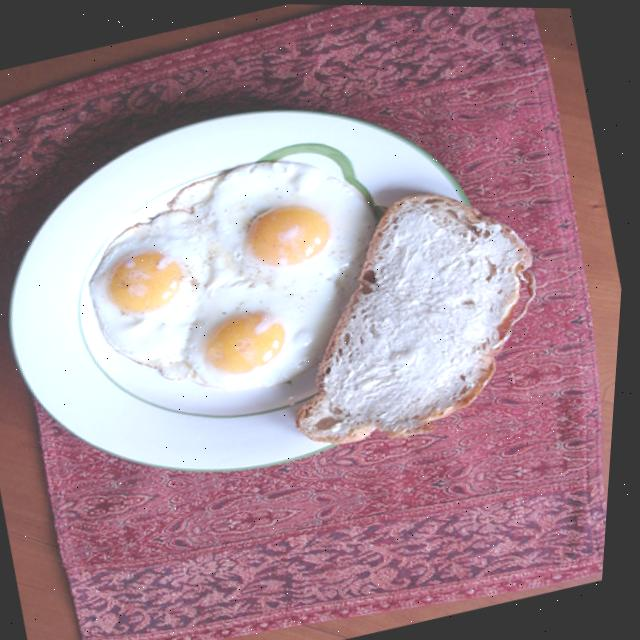鸡蛋料理: (41, 124, 433, 469)
